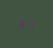nine: (19, 20, 25, 28)
seven: (26, 20, 32, 28)
